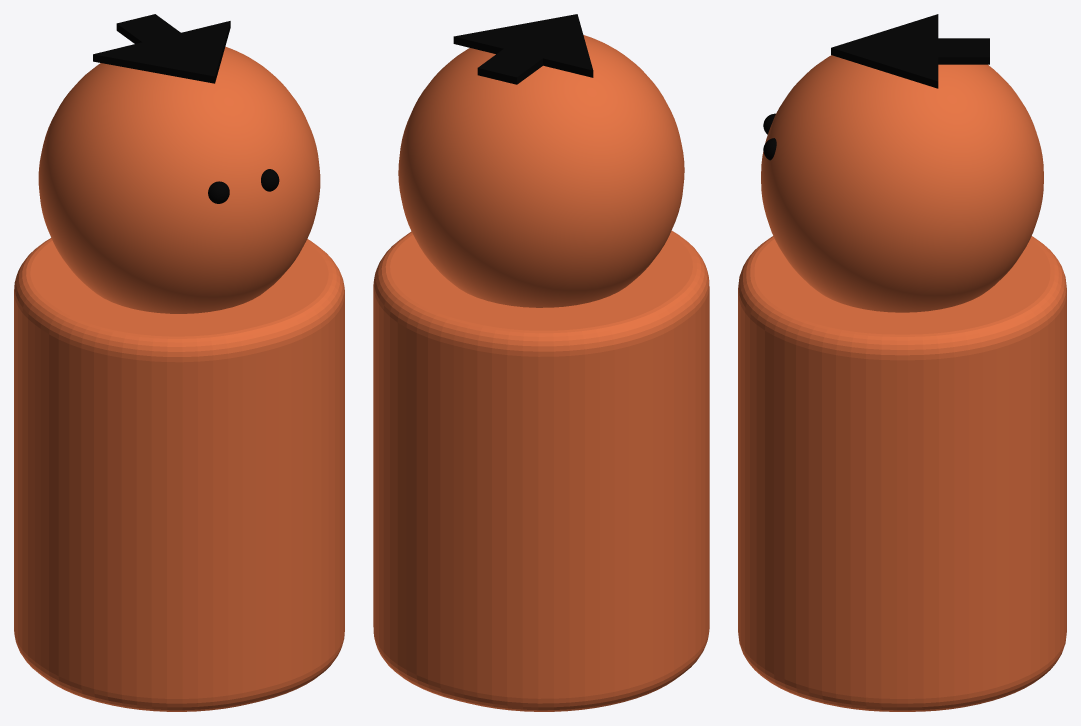
Rendered from 4beige.obj.
The picture shows the model from 3 angles, left to right: view 1: azimuth 30°, elevation 25°; view 2: azimuth 150°, elevation 25°; view 3: azimuth 270°, elevation 25°; orthographic projection.
Visible parts, largest first — view 1: Cube.004_Cube.008; view 2: Cube.004_Cube.008; view 3: Cube.004_Cube.008.
Boxes of the visible parts, box(x1,y1,x2,y2) form: Cube.004_Cube.008: box(14, 14, 344, 711); Cube.004_Cube.008: box(373, 14, 709, 711); Cube.004_Cube.008: box(738, 14, 1066, 711).
Bounding box in the file's own units: 0.2392 × 0.4819 × 0.2392.
